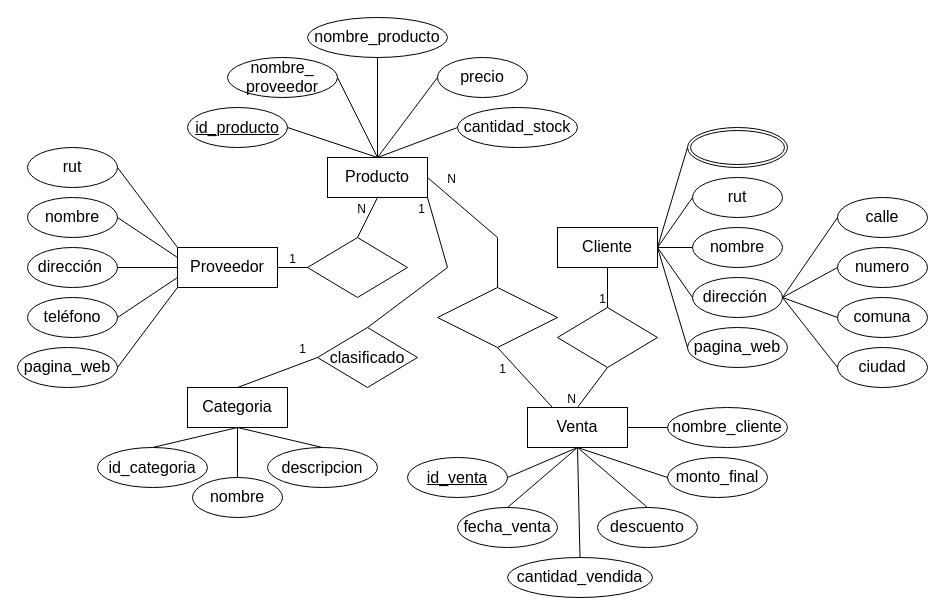
Some shapes in this 945 by 615 pixel diagram are drawn without their labels. Here are the shapes that lost their labels. From the top down, the centre of each, then its label:
[737,147]: teléfono
[357,267]: Abastece
[497,317]: comercializa
[607,337]: asociado
